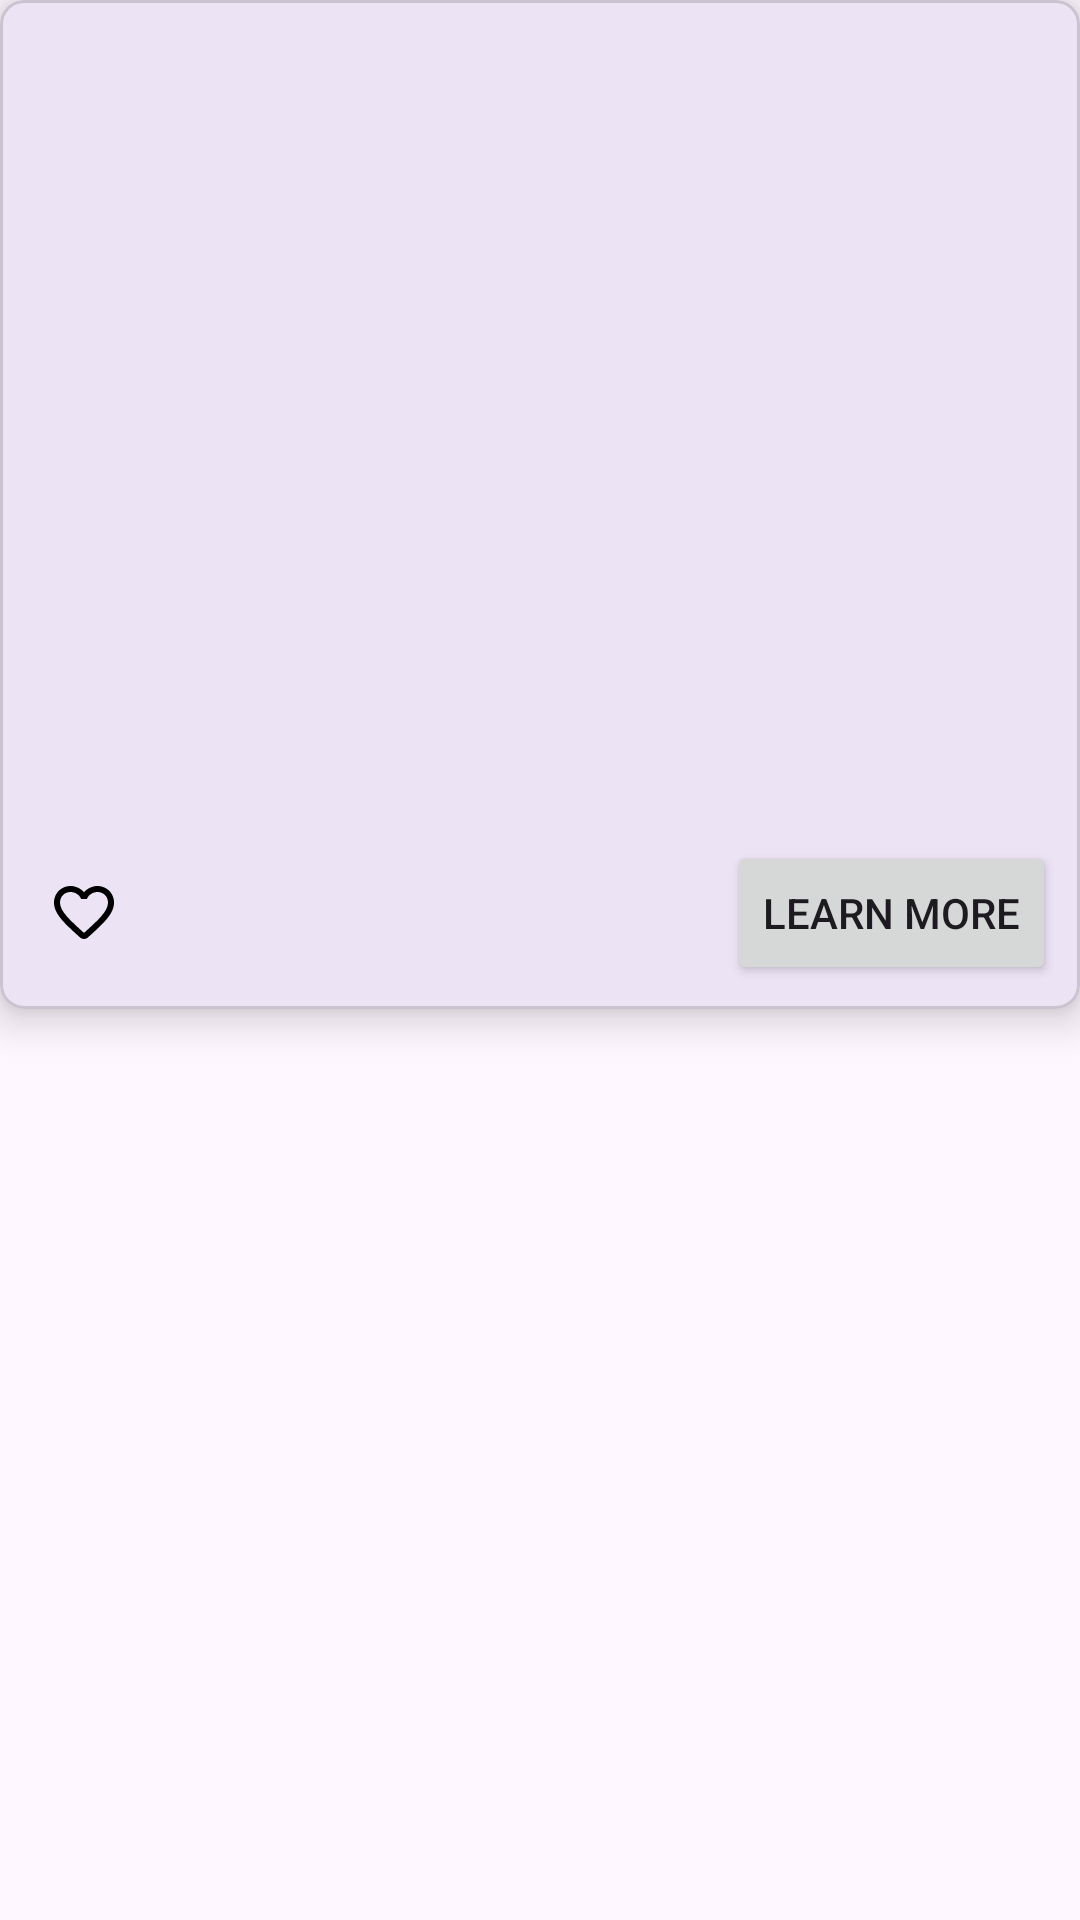

Point at icon controls on the screen. Image size 1080*1920, points as point (x, y).
favourite: point (84, 912)
